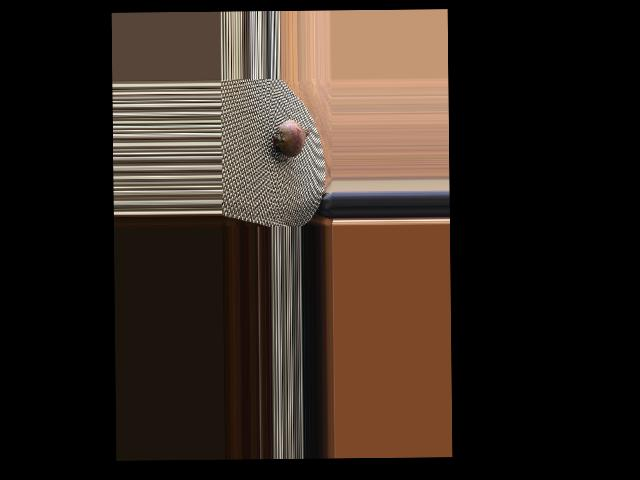beet: (270, 113, 316, 162)
